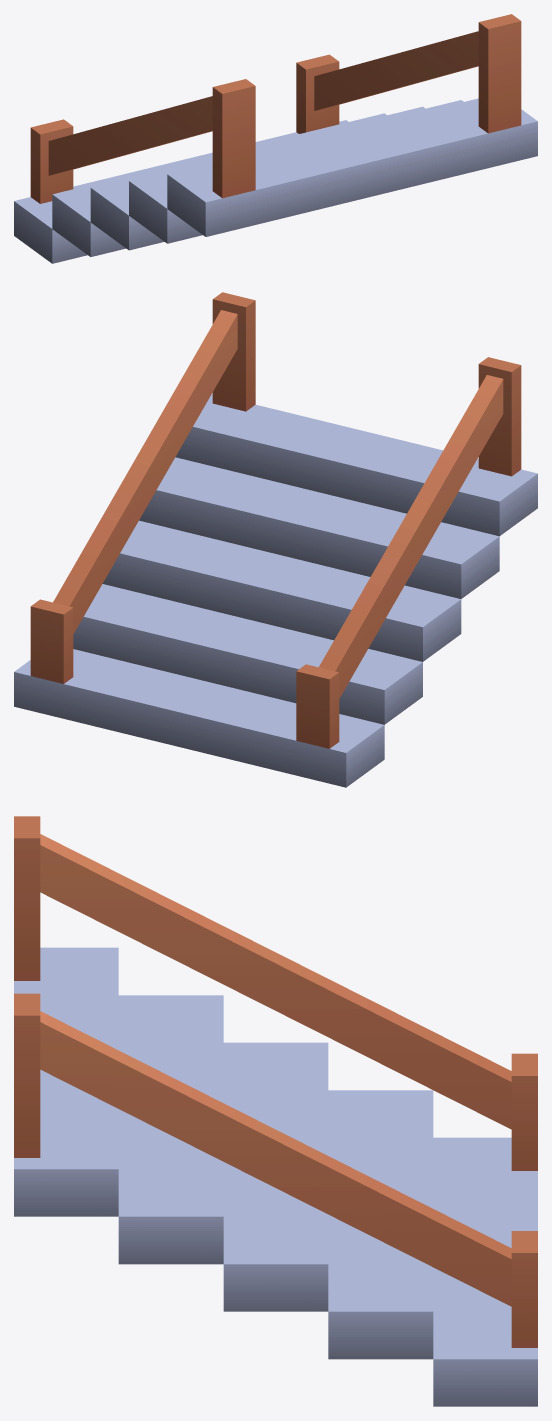
Rendered from path-steps.glb.
3 views of the same model, one above another, from view 1: azimuth 30°, elevation 25°; view 2: azimuth 150°, elevation 25°; view 3: azimuth 270°, elevation 25° (orthographic). The views are drawn at different scales.
Parts seen in each view (by area): view 1: path-steps; view 2: path-steps; view 3: path-steps.
Part boxes in pixels (bbox=[...]): path-steps: bbox=[14, 14, 537, 263]; path-steps: bbox=[14, 292, 537, 787]; path-steps: bbox=[14, 816, 537, 1406].
Size of the model in its own units: 1 by 0.8 by 1.
Materials: 1 (1 with a texture image).
